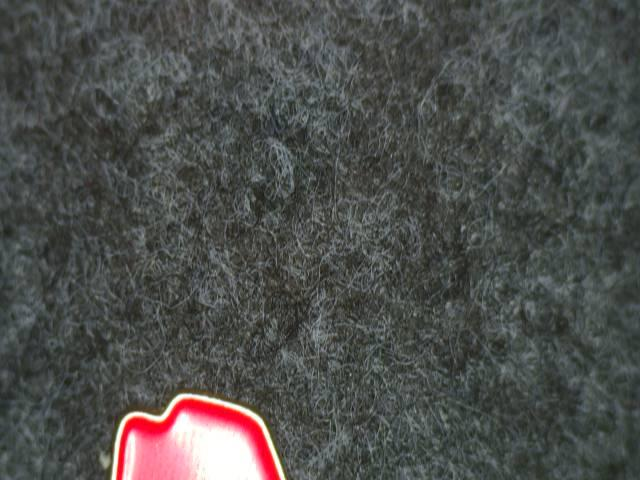Red-Hat: (61, 373, 321, 480)
